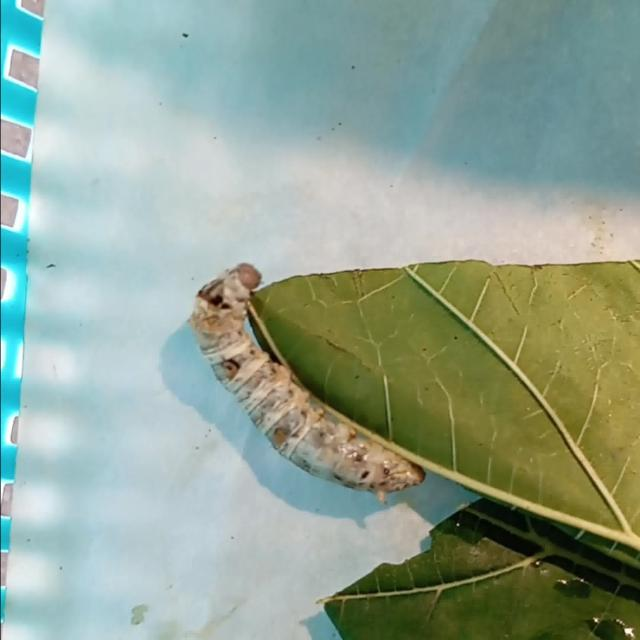Grasserie: (168, 243, 432, 518)
